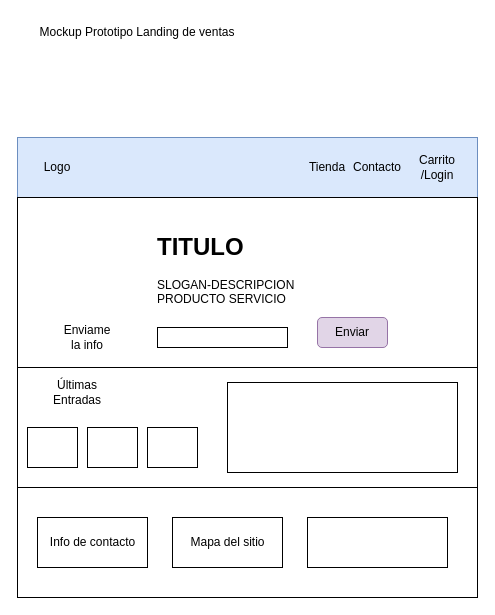
Some shapes in this 495 by 615 pixel diagram are drawn without their labels. The shapes that lost their labels are listed below. From the top down, each one's centre as x and y in pixels, then its label:
(342,427): Promocion
(377,542): Formulario de contacto
